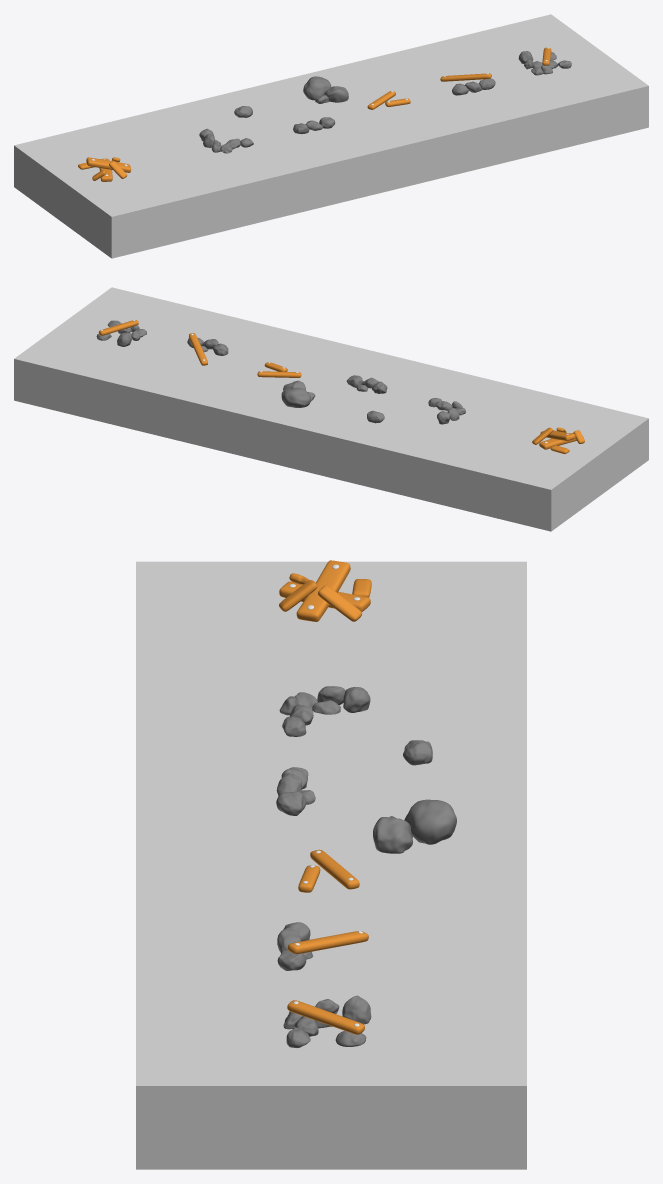
Rendered from BrokenStructures_HI.fbx.
3 views of the same model, one above another, from view 1: azimuth 30°, elevation 25°; view 2: azimuth 150°, elevation 25°; view 3: azimuth 270°, elevation 25° (orthographic). The views are drawn at different scales.
Parts seen in each view (by area): view 1: Ground, Cube.004, Cube.016, Cube.008, Cube.002, Cube.006, Cube.003, Cube.017; view 2: Ground, Cube.016, Cube.004, Cube.002, Cube.008, Cube.003, Cube.017, Cube.006; view 3: Ground, Cube.016, Cube.004, Cube.002, Cube.008, Cube.003, Cube.017, Cube.006, Cube.019, Cube.018.
Boxes of the visible parts, x1,y1,x2,y2 form: Ground: (14, 14, 648, 258); Cube.004: (303, 76, 348, 103); Cube.016: (78, 157, 131, 181); Cube.008: (518, 51, 571, 75); Cube.002: (199, 128, 253, 153); Cube.006: (452, 78, 495, 95); Cube.003: (293, 117, 335, 134); Cube.017: (367, 91, 410, 109); Ground: (14, 287, 648, 531); Cube.016: (532, 427, 584, 453); Cube.004: (281, 380, 315, 407); Cube.002: (428, 398, 465, 424); Cube.008: (96, 320, 146, 346); Cube.003: (346, 375, 387, 393); Cube.017: (257, 362, 301, 377); Cube.006: (187, 337, 228, 355); Ground: (136, 561, 526, 1169); Cube.016: (279, 560, 371, 621); Cube.004: (373, 799, 456, 853); Cube.002: (279, 686, 370, 736); Cube.008: (283, 995, 371, 1047); Cube.003: (276, 767, 315, 815); Cube.017: (298, 849, 359, 892); Cube.006: (277, 922, 312, 970); Cube.019: (287, 1000, 364, 1034); Cube.018: (287, 931, 368, 953).
Size of the model in its own units: 1347 by 138 by 425.
